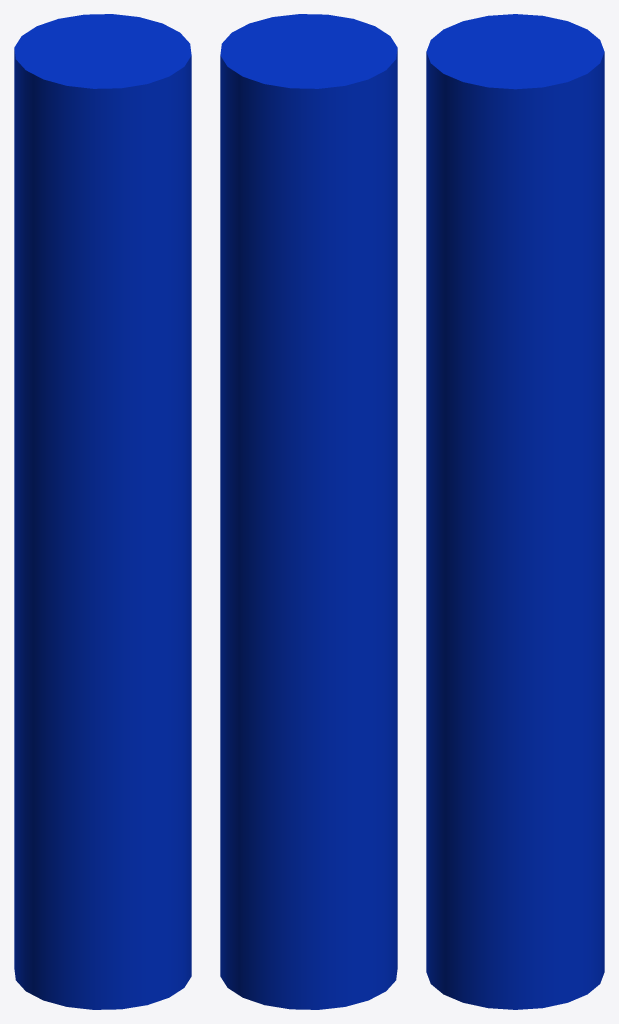
3 renders of one model, left to right at view 1: azimuth 30°, elevation 25°; view 2: azimuth 150°, elevation 25°; view 3: azimuth 270°, elevation 25°, orthographic.
Visible parts, largest first — view 1: pCylinder1; view 2: pCylinder1; view 3: pCylinder1.
Boxes of the visible parts, box(x1,y1,x2,y2) form: pCylinder1: box(14, 14, 191, 1009); pCylinder1: box(220, 14, 397, 1009); pCylinder1: box(426, 14, 604, 1009).
Bounding box in the file's own units: 1.12 × 6.36 × 1.12.
